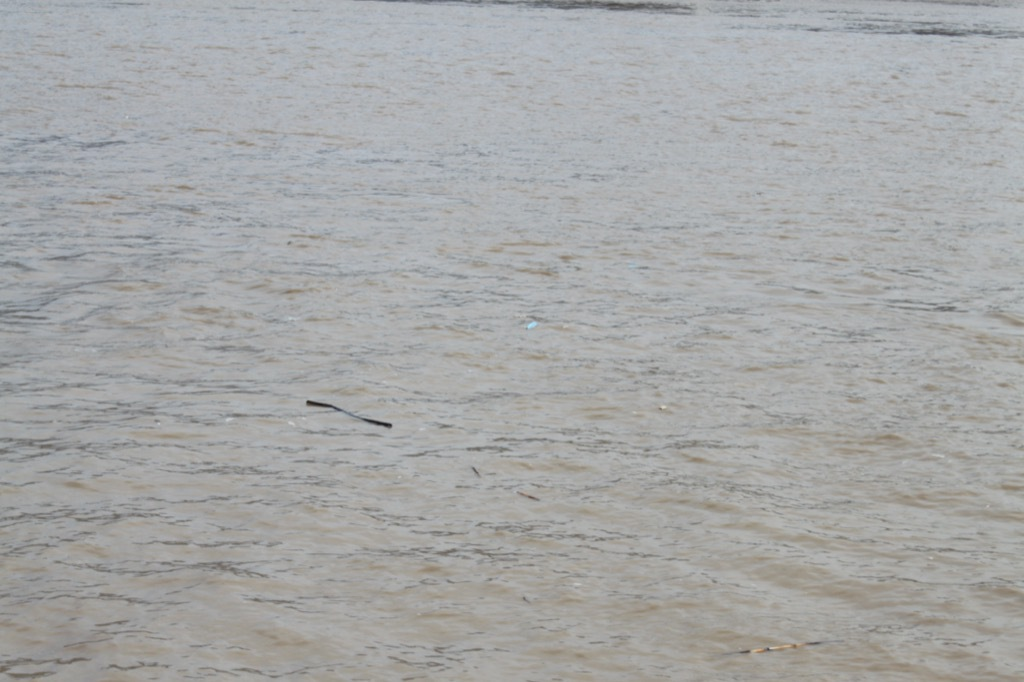organic: (683, 625, 869, 664), (295, 390, 403, 438)
plastic: (505, 306, 548, 337)
